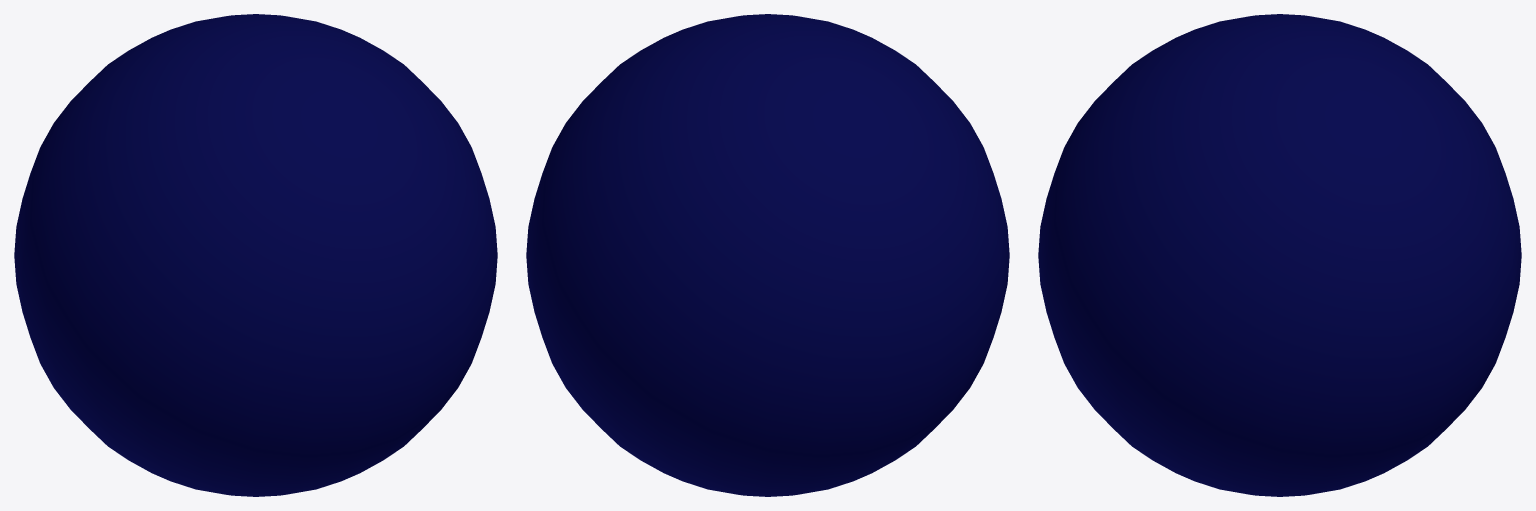
The model's file is sibenik-cathedral-vray.fbx.
The picture shows the model from 3 angles, left to right: view 1: azimuth 30°, elevation 25°; view 2: azimuth 150°, elevation 25°; view 3: azimuth 270°, elevation 25°; orthographic projection.
Parts seen in each view (by area): view 1: Sphere; view 2: Sphere; view 3: Sphere.
Part boxes in pixels (box(x1,y1,x2,y2)): Sphere: box(14, 14, 497, 496); Sphere: box(526, 14, 1009, 496); Sphere: box(1038, 14, 1521, 496).
Size of the model in its own units: 200 by 200 by 200.
